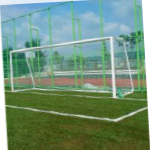goals: (8, 34, 135, 99)
